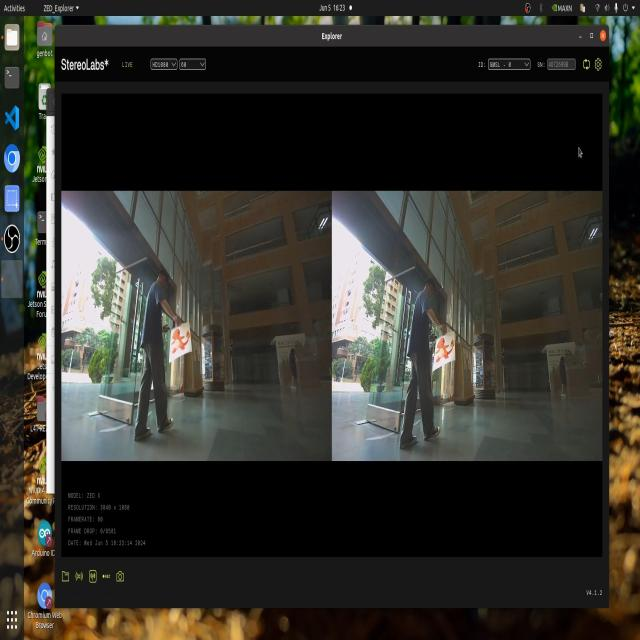red: (164, 320, 193, 353), (431, 333, 463, 362)
